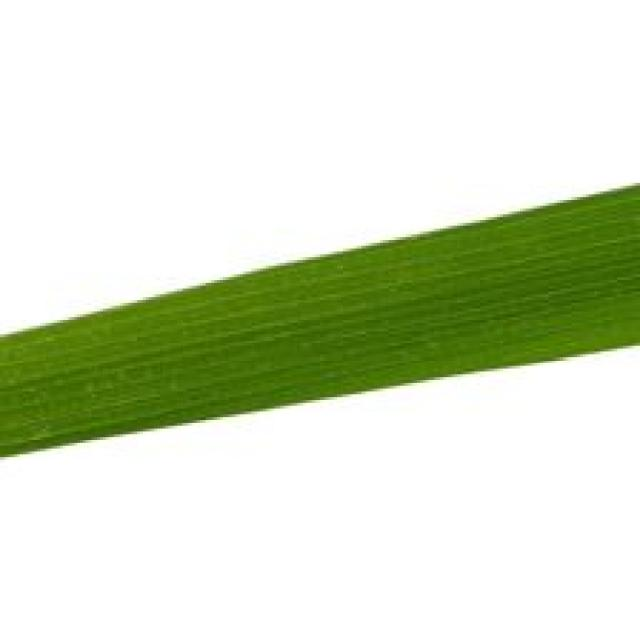Rice___Healthy_Rice_Plant: (0, 182, 637, 457)
